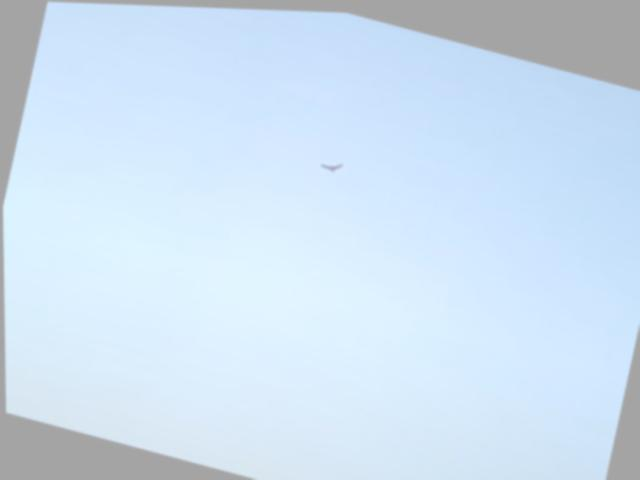iha: (320, 152, 343, 172)
